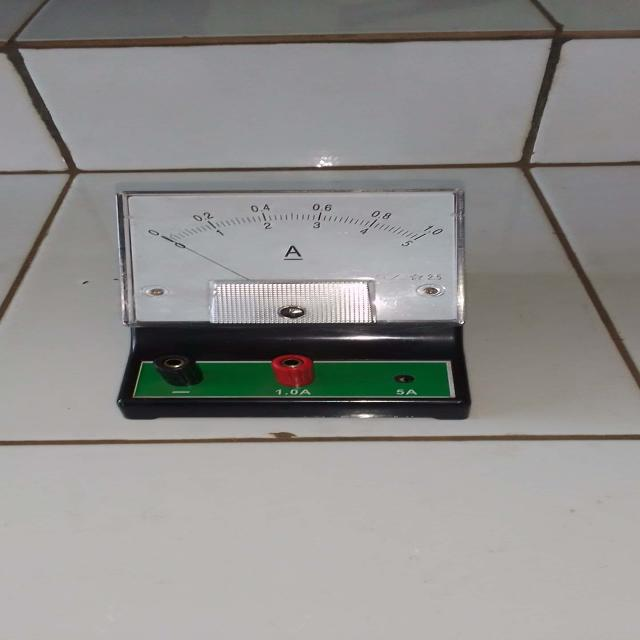Ammeter Analog: (94, 186, 492, 426)
